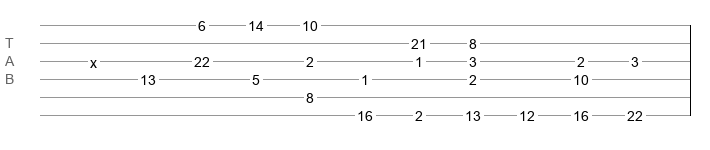1: (361, 72, 369, 82), (415, 54, 423, 64)
10: (302, 18, 318, 28), (573, 72, 589, 82)
12: (519, 108, 535, 118)
13: (140, 72, 156, 82), (465, 108, 481, 118)
14: (248, 18, 264, 28)
16: (357, 108, 373, 118), (573, 108, 589, 118)
2: (306, 54, 314, 64), (415, 108, 423, 118), (469, 72, 477, 82), (577, 54, 585, 64)
21: (411, 36, 427, 46)
22: (194, 54, 210, 64), (627, 108, 643, 118)
3: (469, 54, 477, 64), (631, 54, 639, 64)
5: (252, 72, 260, 82)
6: (198, 18, 206, 28)
8: (306, 90, 314, 100), (469, 36, 477, 46)
x: (90, 55, 97, 63)
